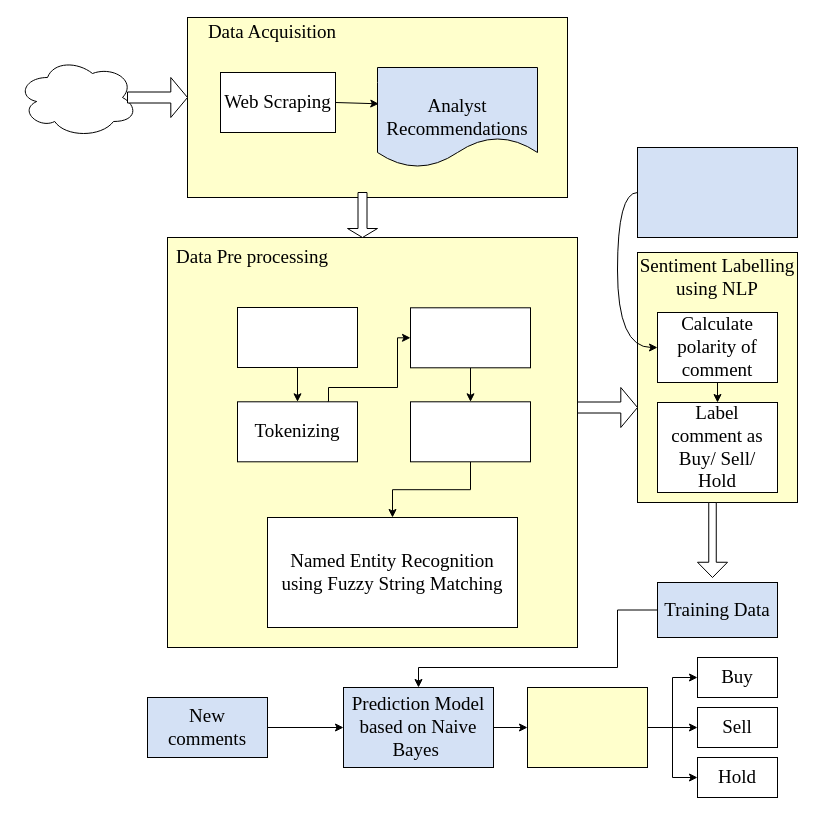
This 815x815 diagram has some shape labels left out. Here are the shapes that lost their labels. From the top down, the box of each, then its label:
(16, 56, 138, 138): Web
(636, 146, 798, 238): Dictionary of words having positive and negative polarities
(236, 306, 358, 368): Convert to lower case
(410, 307, 530, 368): Stopword Removal
(410, 401, 530, 462): Lemmatization
(526, 686, 648, 768): Classify incoming comments
